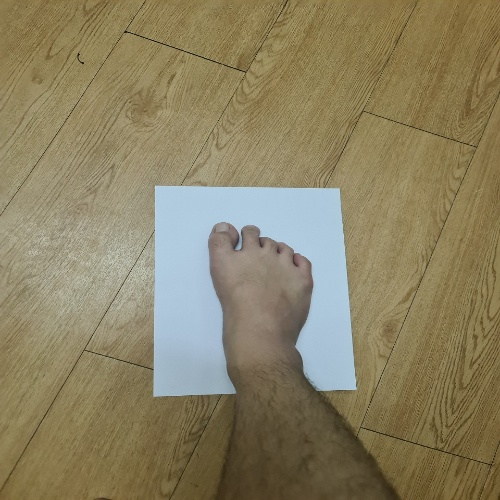Top_Foot: (137, 171, 388, 425)
